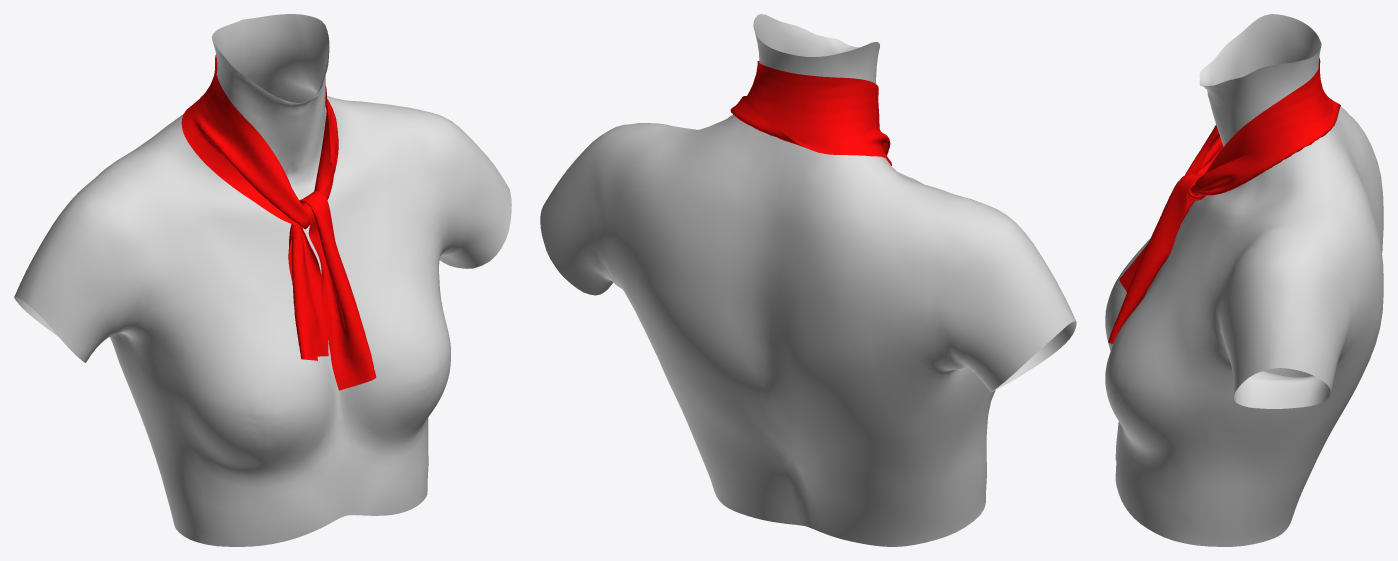
Rendered from shawl.fbx.
3 views of the same model, side by side, from view 1: azimuth 30°, elevation 25°; view 2: azimuth 150°, elevation 25°; view 3: azimuth 270°, elevation 25° (orthographic). The views are drawn at different scales.
Parts seen in each view (by area): view 1: body.001, shawl1.001; view 2: body.001, shawl1.001; view 3: body.001, shawl1.001.
Part boxes in pixels (x1=…): body.001: x1=14, y1=14, x2=511, y2=546; shawl1.001: x1=181, y1=55, x2=376, y2=390; body.001: x1=540, y1=14, x2=1076, y2=546; shawl1.001: x1=730, y1=61, x2=891, y2=165; body.001: x1=1105, y1=14, x2=1383, y2=546; shawl1.001: x1=1108, y1=57, x2=1340, y2=343.
Size of the model in its own units: 46.37 by 42.13 by 23.28.
